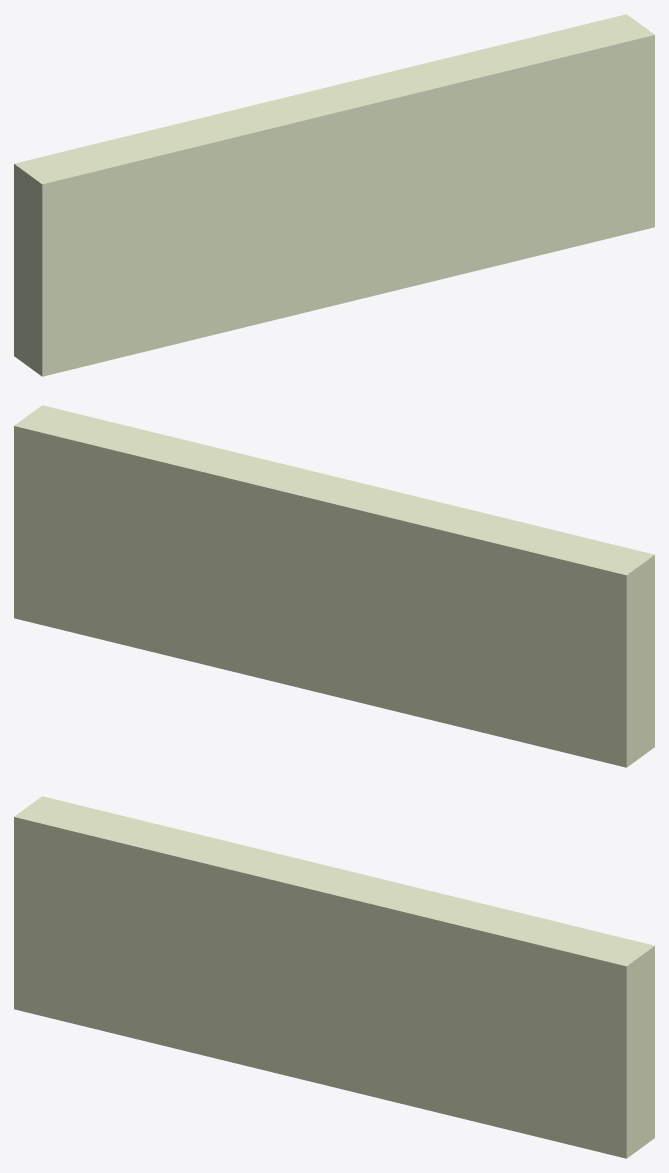
The model's file is main2.gltf.
3 views of the same model, one above another, from view 1: azimuth 30°, elevation 25°; view 2: azimuth 150°, elevation 25°; view 3: azimuth 330°, elevation 25° (orthographic).
Parts seen in each view (by area): view 1: Box001; view 2: Box001; view 3: Box001.
Boxes of the visible parts, bbox=[...] form: Box001: bbox=[14, 14, 654, 376]; Box001: bbox=[14, 405, 654, 767]; Box001: bbox=[14, 796, 654, 1158].
Size of the model in its own units: 100 by 30 by 8.
